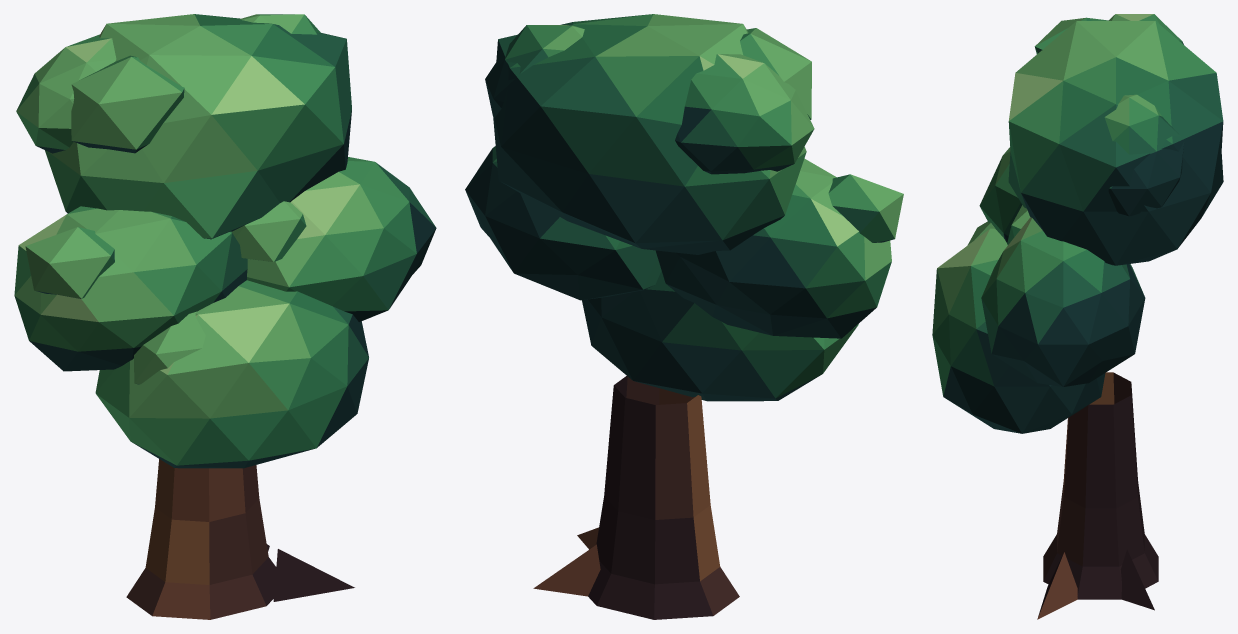
Rendered from tree_tree25.glb.
3 views of the same model, side by side, from view 1: azimuth 30°, elevation 25°; view 2: azimuth 150°, elevation 25°; view 3: azimuth 270°, elevation 25° (orthographic). The views are drawn at different scales.
Visible parts, largest first — view 1: tree25; view 2: tree25; view 3: tree25.
Part boxes in pixels (left/top/right/bottom): tree25: left=14, top=14, right=436, bottom=619; tree25: left=465, top=14, right=903, bottom=619; tree25: left=932, top=14, right=1223, bottom=619.
Size of the model in its own units: 1.05 by 1.42 by 0.7235.
